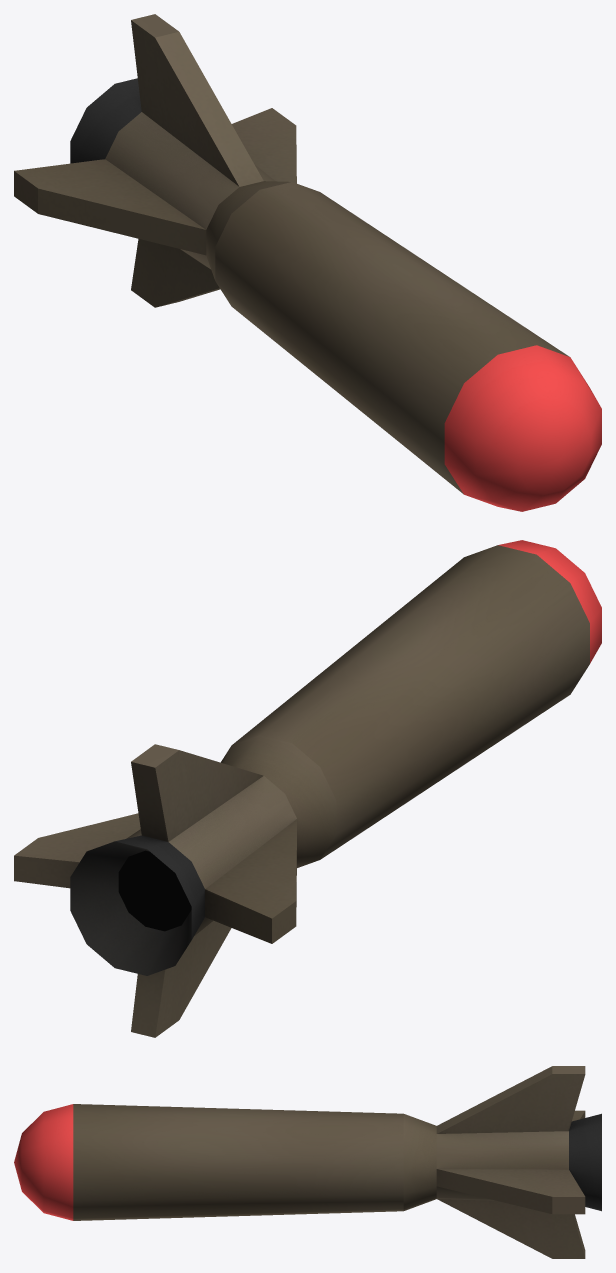
Rendered from rocket_launcher_quad_projectile_low.fbx.
3 renders of one model, top to bottom at view 1: azimuth 30°, elevation 25°; view 2: azimuth 150°, elevation 25°; view 3: azimuth 270°, elevation 25°, orthographic. The views are drawn at different scales.
Visible parts, largest first — view 1: rocket_launcher_quad_projectile_low; view 2: rocket_launcher_quad_projectile_low; view 3: rocket_launcher_quad_projectile_low.
Boxes of the visible parts, x1,y1,x2,y2 form: rocket_launcher_quad_projectile_low: [14, 14, 601, 511]; rocket_launcher_quad_projectile_low: [14, 540, 601, 1037]; rocket_launcher_quad_projectile_low: [14, 1066, 601, 1258].
Size of the model in its own units: 15.43 by 15.43 by 44.5.
